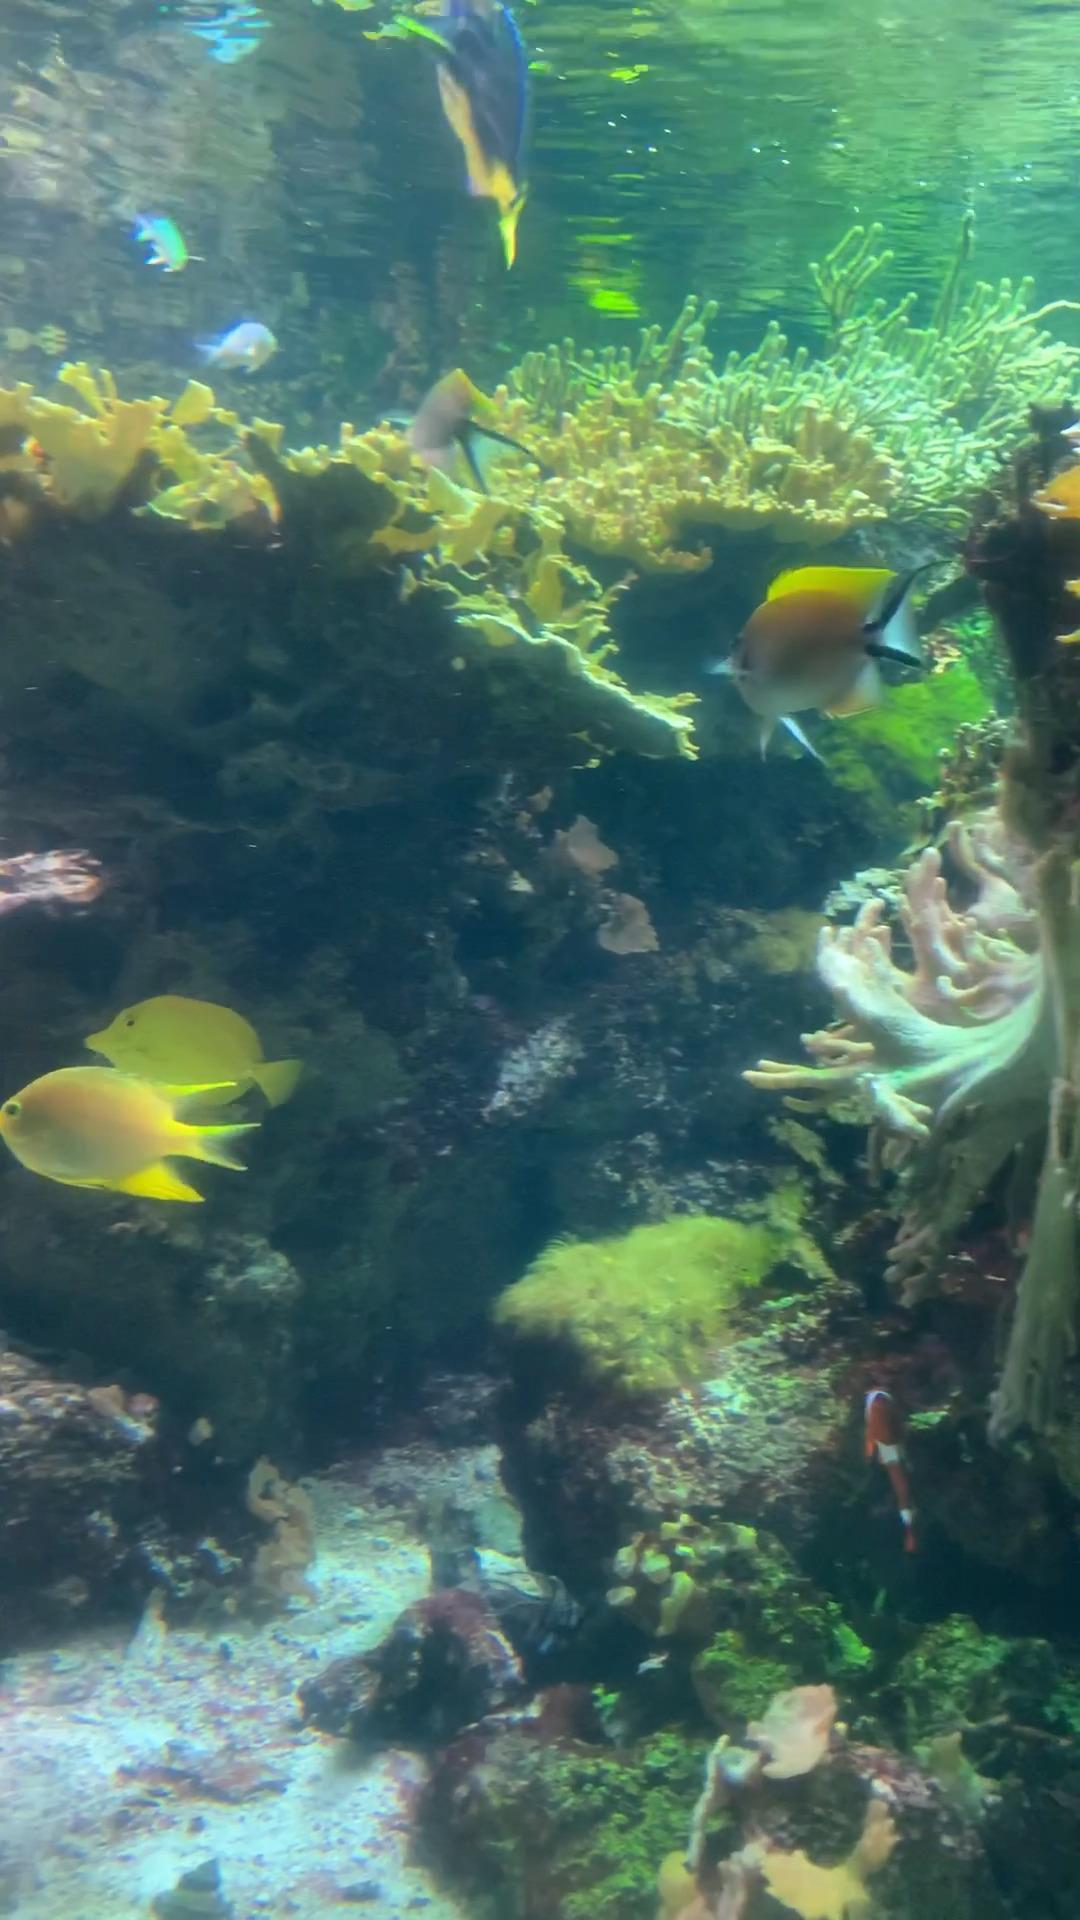fish: (703, 570, 942, 757), (3, 1063, 252, 1205), (400, 0, 531, 260), (87, 989, 316, 1117), (404, 367, 542, 502), (855, 1373, 927, 1557), (190, 322, 287, 394), (135, 212, 190, 280)
